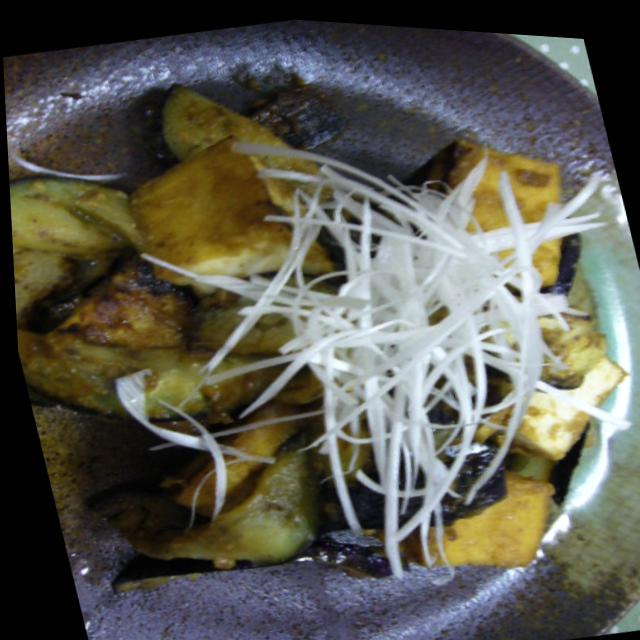鸡蛋料理: (0, 6, 640, 640)
